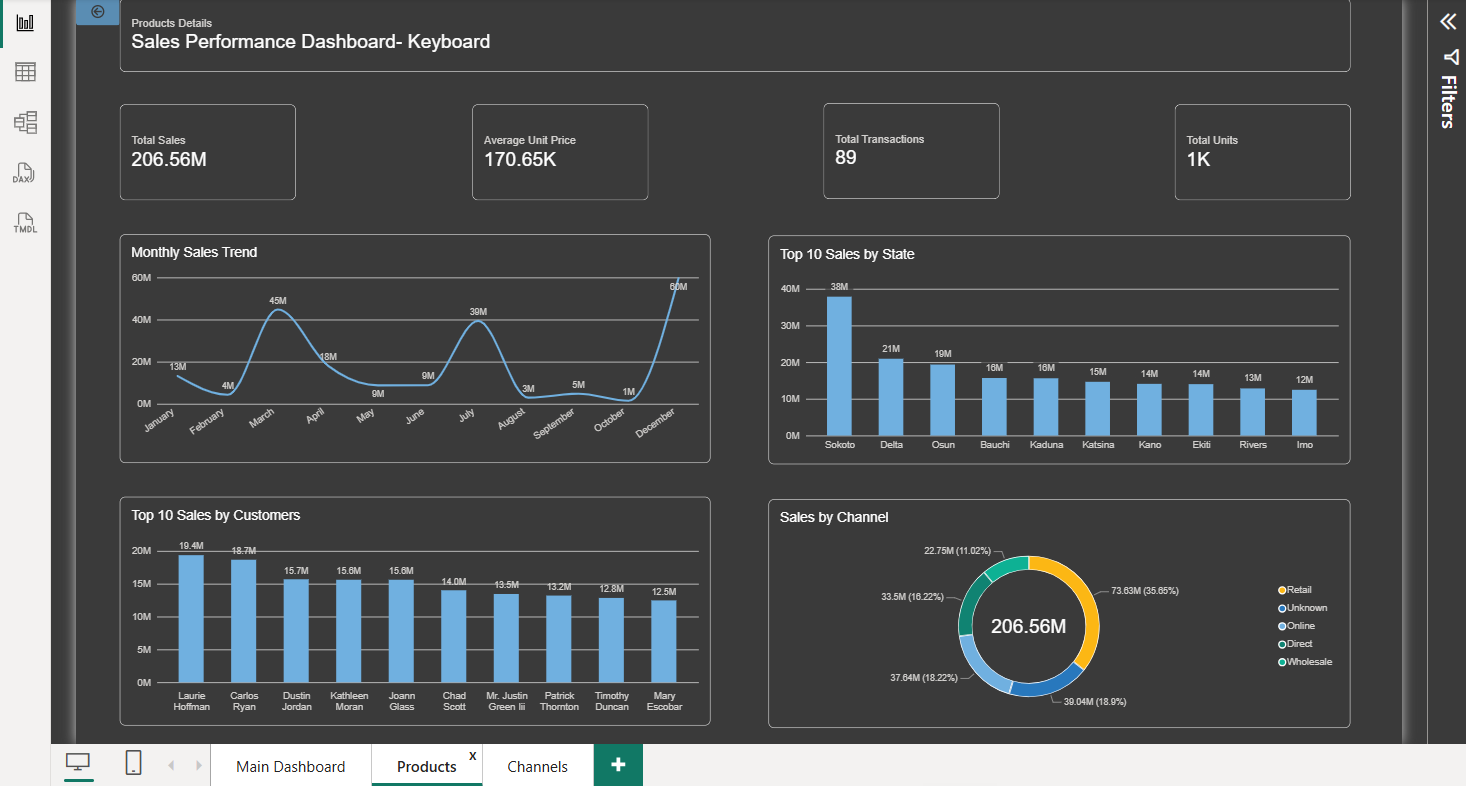

The dashboard page shown, as its layout file describes it:
{"tool":"powerbi","page":{"name":"Products","canvas":[1920,1080],"ordinal":1},"visuals":[{"type":"actionButton","box":[0,0,63.3,39.8],"z":0},{"type":"cardVisual","fields":{"Data":["Fact_Sales.Total Sales"]},"box":[64.1,153.9,255.2,140],"z":1000},{"type":"cardVisual","fields":{"Data":["Fact_Sales.Average Unit Price"]},"box":[573.1,154.4,255.2,140],"z":2000},{"type":"cardVisual","fields":{"Data":["Fact_Sales.Total Transactions"]},"box":[1082.1,152.3,255.2,140],"z":3000},{"type":"cardVisual","fields":{"Data":["Fact_Sales.Total Units"]},"box":[1591.1,154.4,255.2,140],"z":4000},{"type":"cardVisual","fields":{"Data":["Fact_Sales.Products Details"]},"box":[63.8,0,1782.5,107],"z":5000},{"type":"lineChart","title":"Monthly Sales Trend","fields":{"Category":["DimDate.Month"],"Y":["Fact_Sales.Total Sales"]},"box":[64.1,342.6,855.2,331.4],"z":6000},{"type":"donutChart","title":"Sales by Channel","fields":{"Category":["DimChannel.Sales Channel"],"Y":["Fact_Sales.Total Sales"]},"box":[1002.8,724.8,842.4,331.4],"z":7000},{"type":"lineStackedColumnComboChart","title":"Top 10 Sales by State","fields":{"Category":["DimState.State"],"Y":["Fact_Sales.Total Sales"]},"box":[1002.8,343.9,842.4,331.4],"z":8000},{"type":"clusteredColumnChart","title":"Top 10 Sales by Customers","fields":{"Category":["DimCustomer.Customer Name"],"Y":["Fact_Sales.Total Sales"]},"box":[64.1,722.7,855.2,331.4],"z":9000}]}

Visuals, with their boxes on the page's 1920x1080 design canvas (x1, y1, x2, y2). These are canvas units, not pixel positions in the 1466x786 screenshot, which may show the page scaled, cropped or inside an application window:
actionButton: Rect(0, 0, 63, 40)
cardVisual - Fact_Sales.Total Sales: Rect(64, 154, 319, 294)
cardVisual - Fact_Sales.Average Unit Price: Rect(573, 154, 828, 294)
cardVisual - Fact_Sales.Total Transactions: Rect(1082, 152, 1337, 292)
cardVisual - Fact_Sales.Total Units: Rect(1591, 154, 1846, 294)
cardVisual - Fact_Sales.Products Details: Rect(64, 0, 1846, 107)
"Monthly Sales Trend" lineChart: Rect(64, 343, 919, 674)
"Sales by Channel" donutChart: Rect(1003, 725, 1845, 1056)
"Top 10 Sales by State" lineStackedColumnComboChart: Rect(1003, 344, 1845, 675)
"Top 10 Sales by Customers" clusteredColumnChart: Rect(64, 723, 919, 1054)
